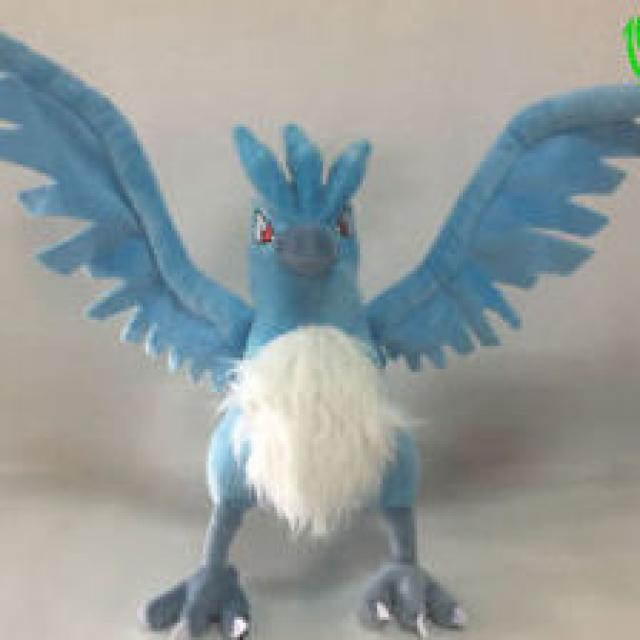Articuno: (23, 81, 640, 640)
